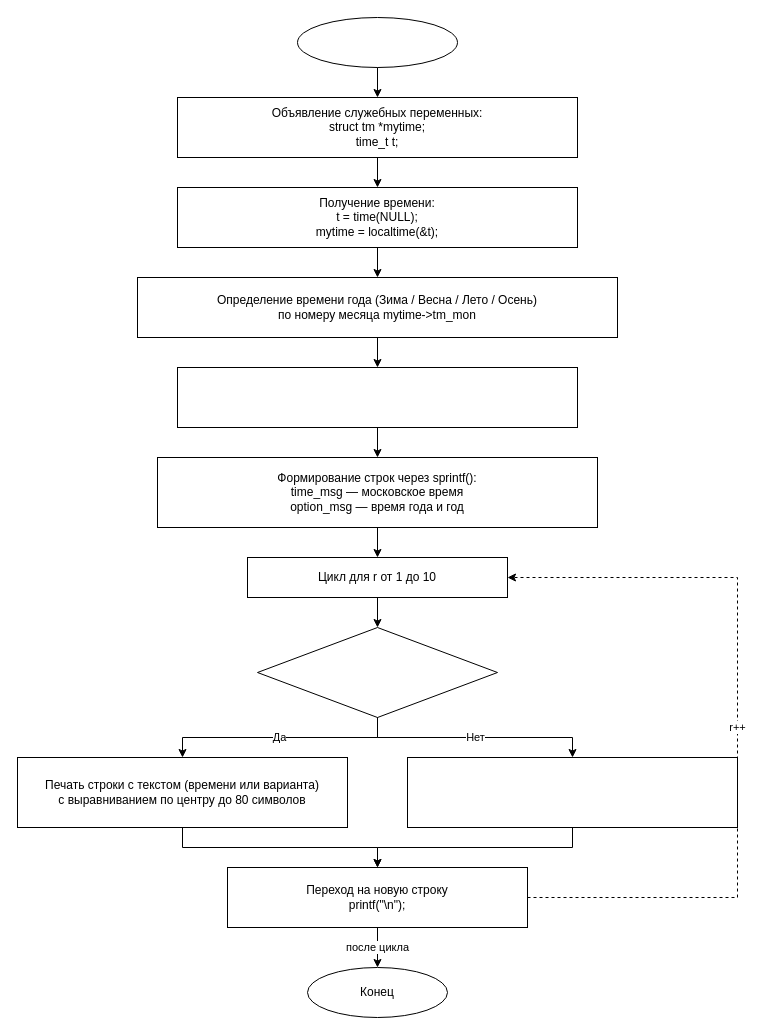
Image size: 763x1035. Some labels were removed from this diagram. The shapes that lost their labels are listed below. From the top down, each one's box as (x1, y1, x2, y2) in pixels, then its label:
(296, 16, 458, 68): Начало
(176, 366, 578, 428): Вычисление двух последних цифр года (tm_year + 1900) % 100
(256, 626, 498, 718): r == 5 или r == 6 ?
(406, 756, 738, 828): Печать сплошной строки из 80 символов '*'
